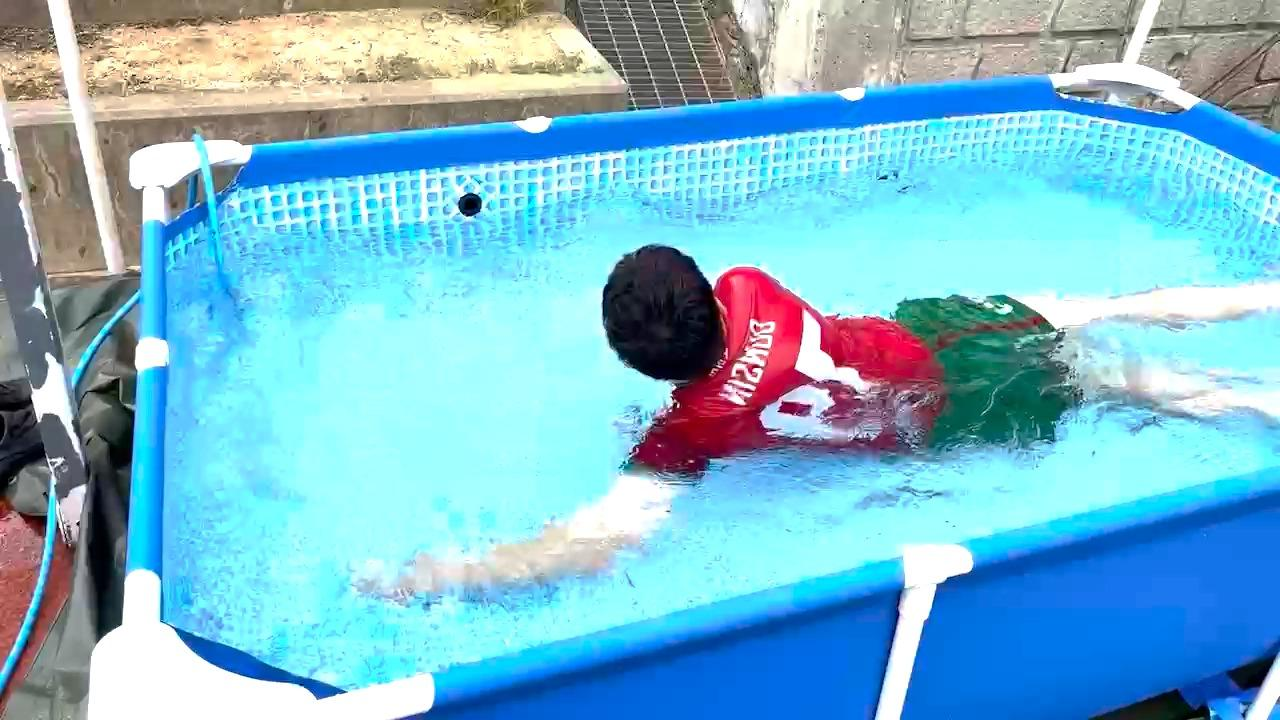Swimming: (315, 182, 1278, 627)
